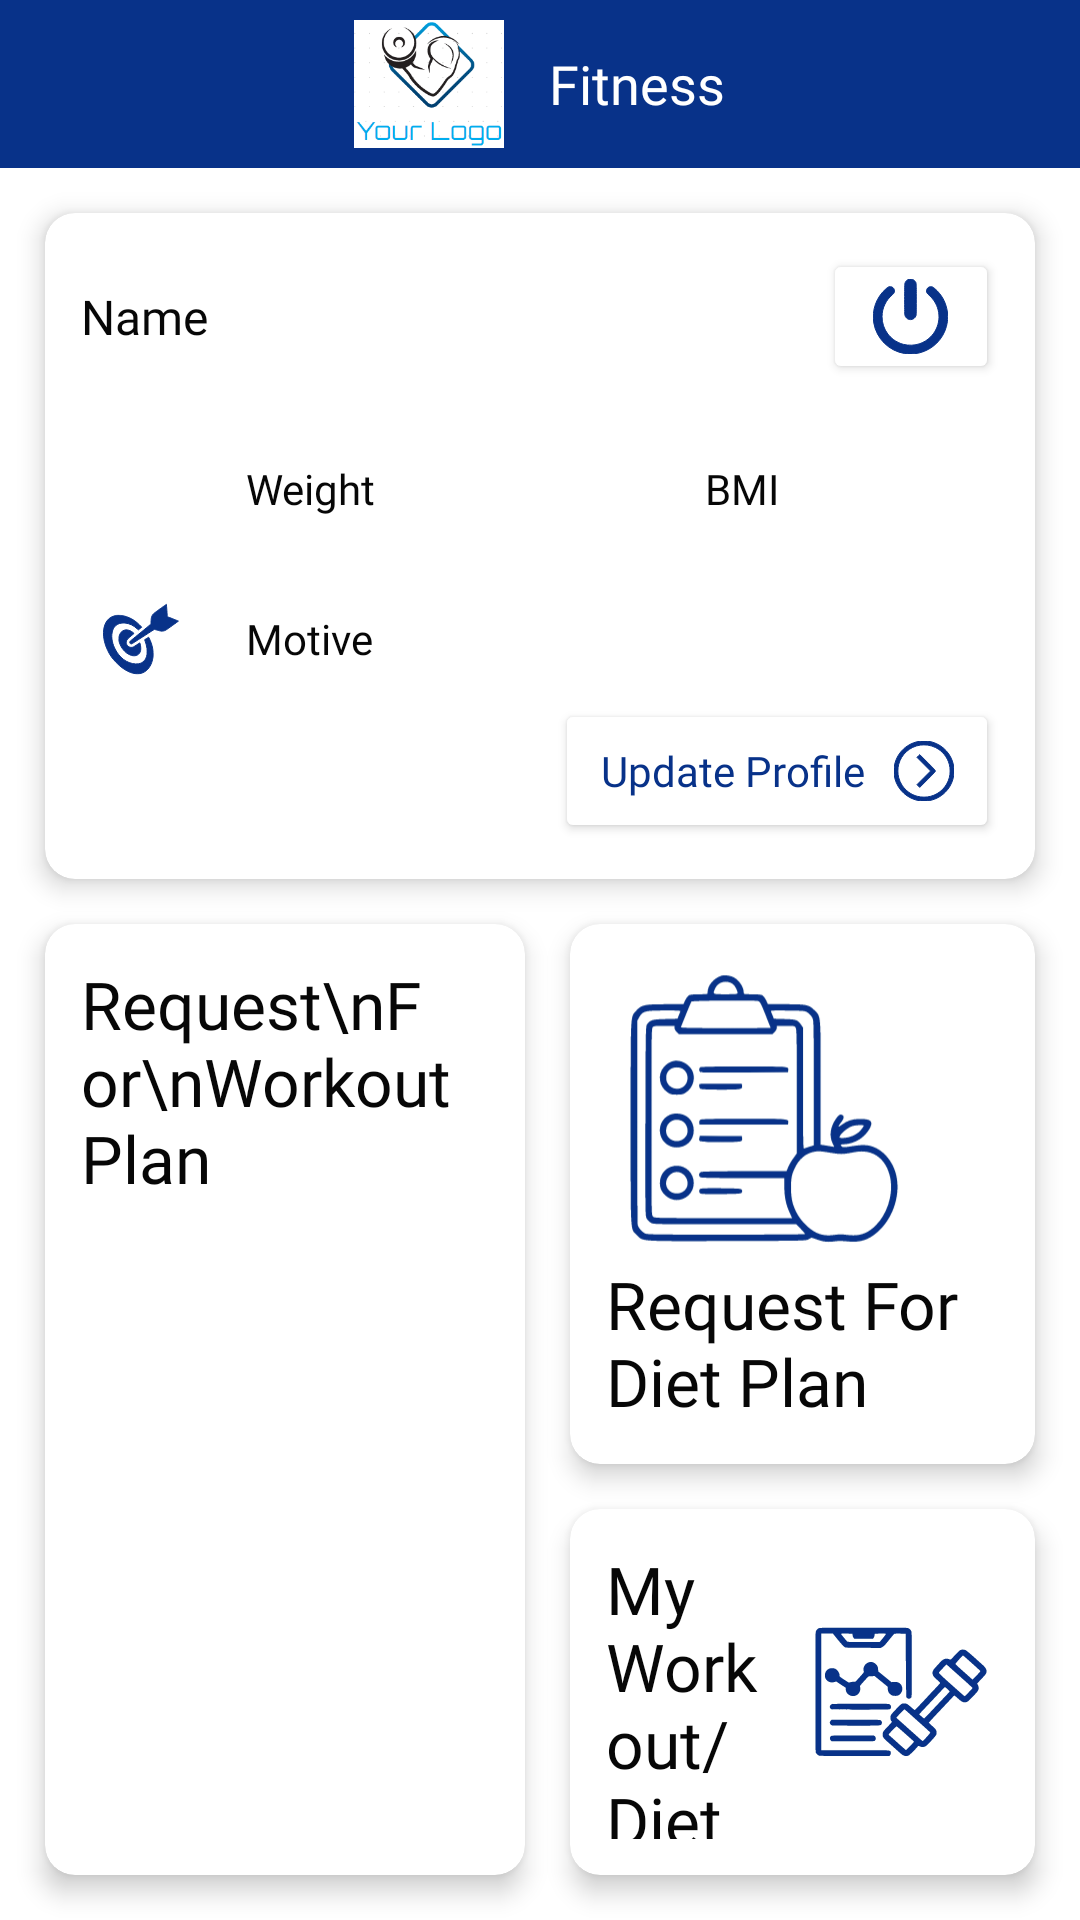

Screen size 1080×1920. Icon name, then its center in pixels as point (x, y):
target: point (141, 639)
workoutplan: point (901, 1691)
